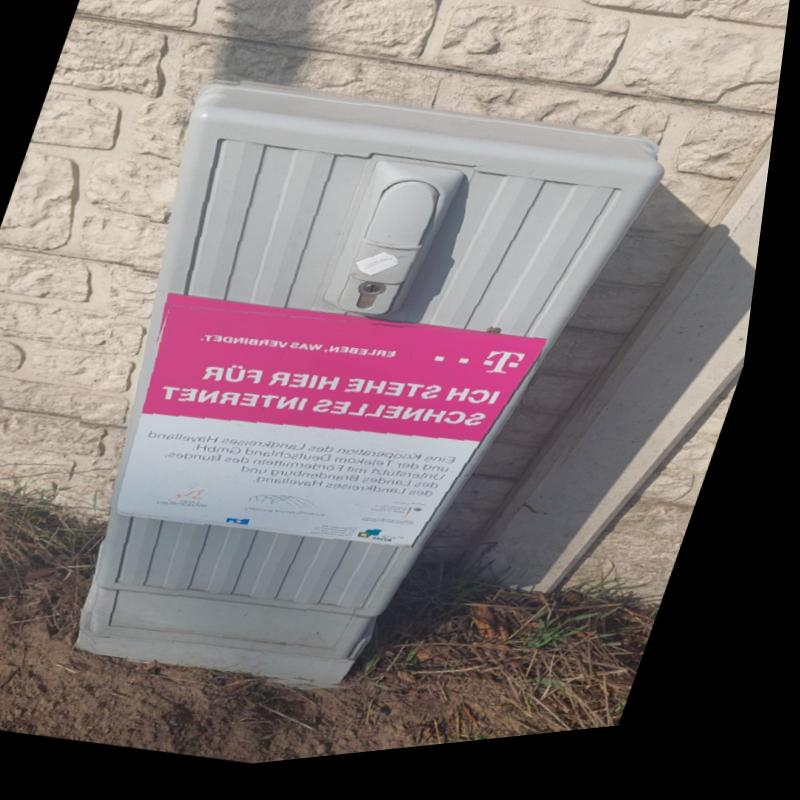NT-Gehause: (90, 82, 680, 688)
Steaker: (128, 312, 556, 556)
